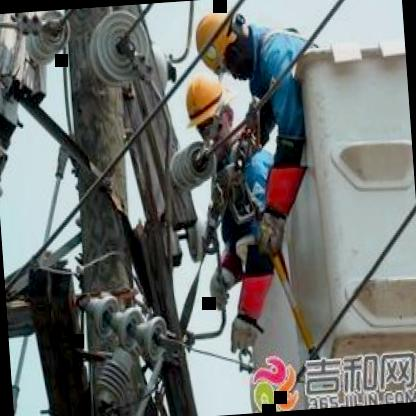helmet: (180, 63, 233, 146), (186, 4, 245, 72)
